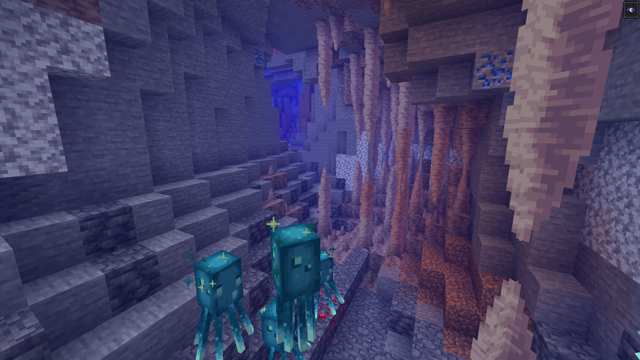lapis: (474, 50, 514, 89), (253, 46, 266, 69)
redstone: (319, 282, 345, 330)
